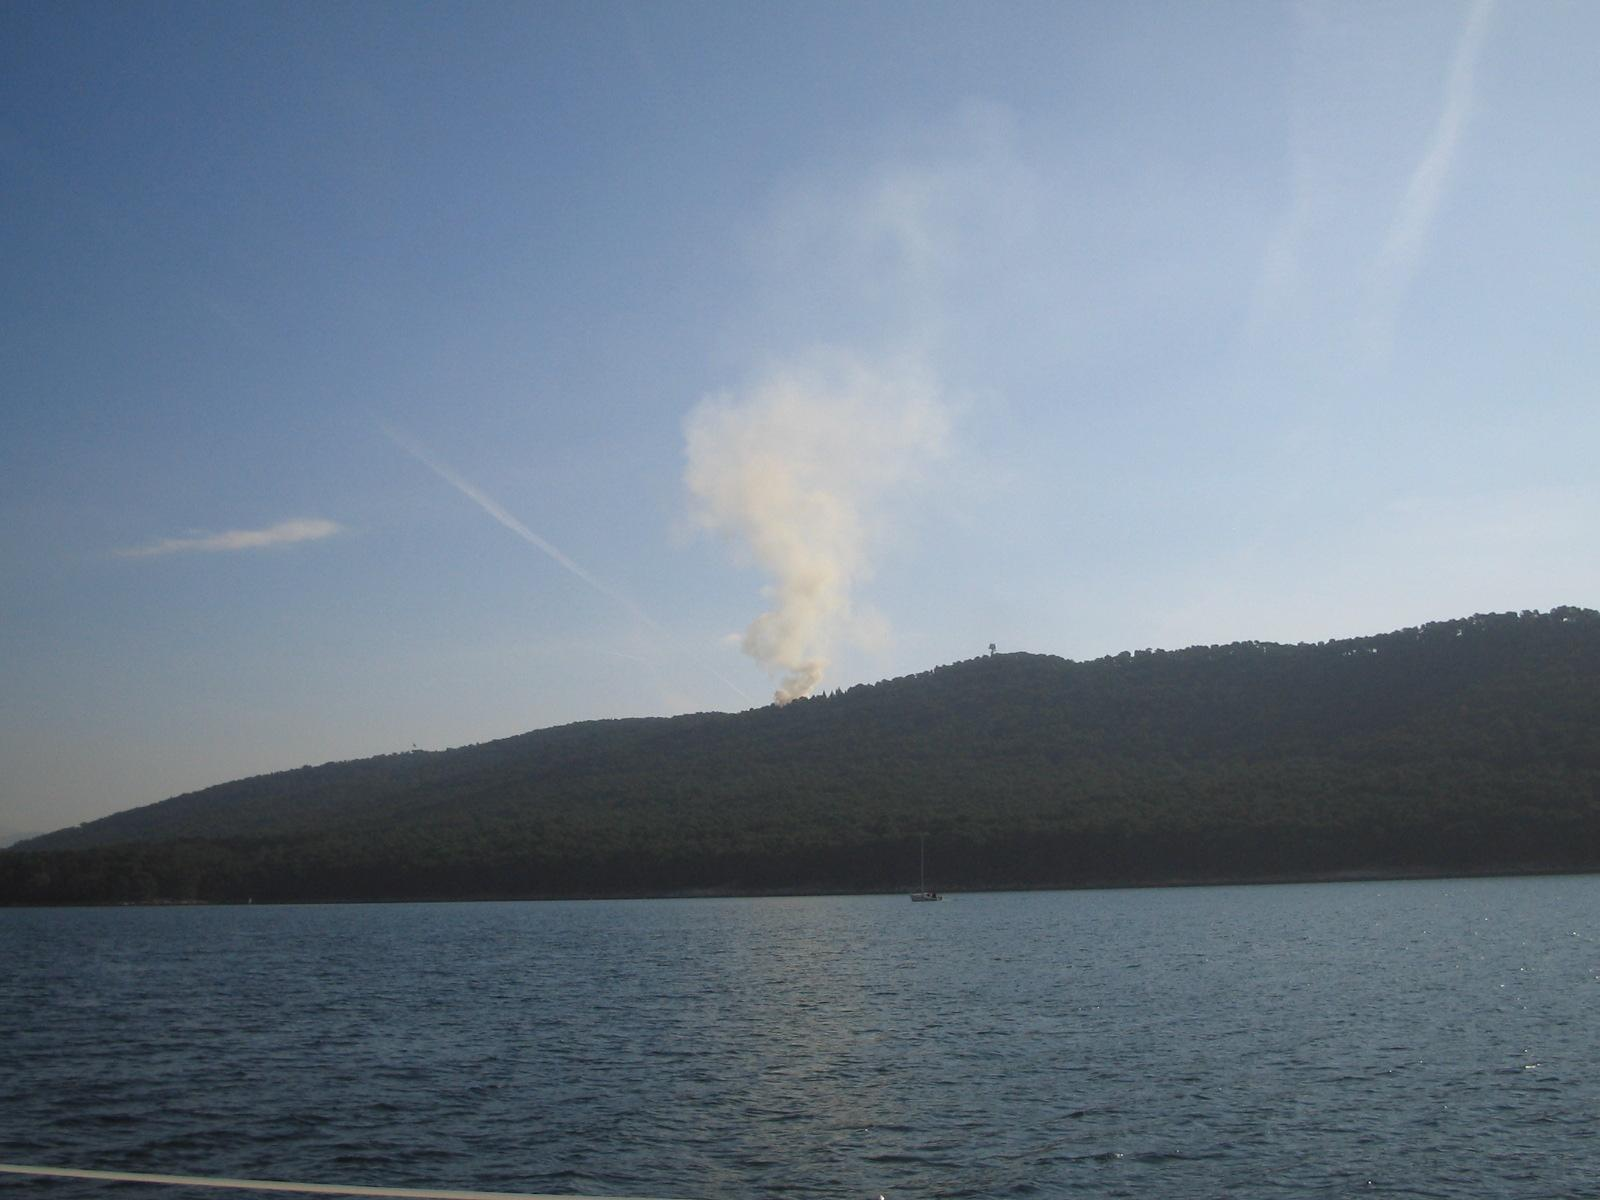Smoke: (654, 129, 1018, 717)
